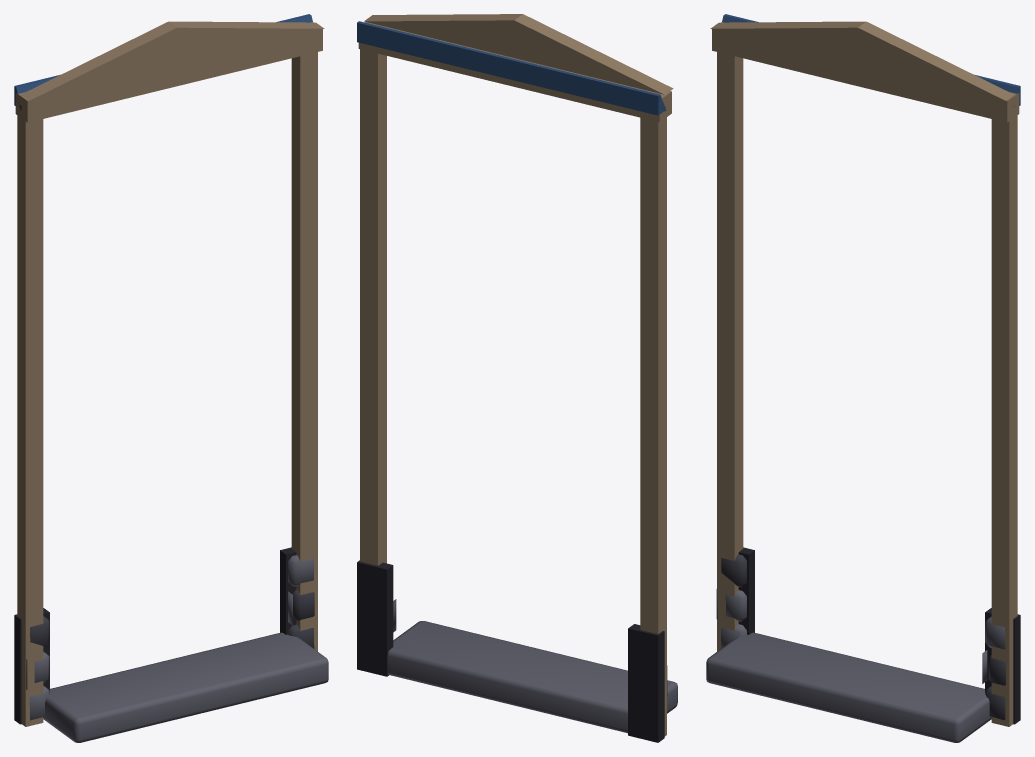
File: kit_clap_door.glb
3 renders of one model, left to right at view 1: azimuth 30°, elevation 25°; view 2: azimuth 150°, elevation 25°; view 3: azimuth 330°, elevation 25°, orthographic. The views are drawn at different scales.
Parts seen in each view (by area): view 1: kit_clap_door; view 2: kit_clap_door; view 3: kit_clap_door.
Part boxes in pixels (x1=…): kit_clap_door: x1=14, y1=14, x2=328, y2=742; kit_clap_door: x1=357, y1=14, x2=677, y2=742; kit_clap_door: x1=706, y1=14, x2=1020, y2=742.
Bounding box in the file's own units: 1 × 2.16 × 0.244.
